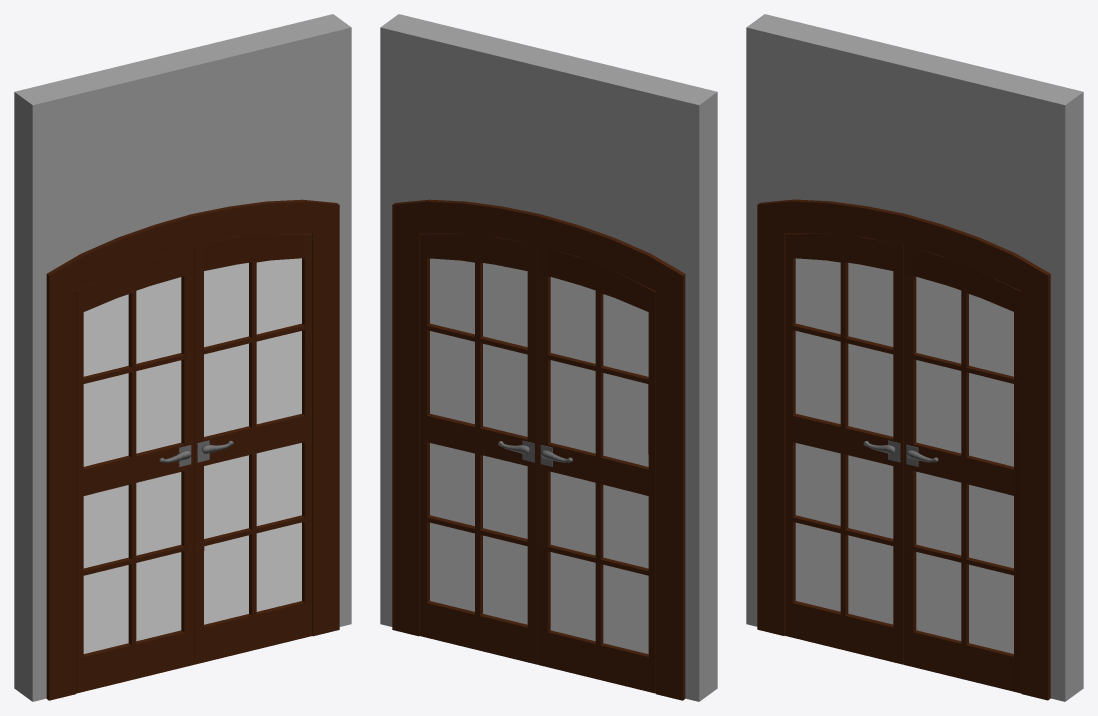
Rendered from wallWithFrenchDoor.fbx.
3 renders of one model, left to right at view 1: azimuth 30°, elevation 25°; view 2: azimuth 150°, elevation 25°; view 3: azimuth 330°, elevation 25°, orthographic.
Visible parts, largest first — view 1: WallwithFrenchDoor, FrenchDoor.002, French Door; view 2: WallwithFrenchDoor, FrenchDoor.002, French Door; view 3: WallwithFrenchDoor, French Door, FrenchDoor.002.
Part boxes in pixels (left/top/right/bottom): WallwithFrenchDoor: left=14, top=14, right=351, bottom=701; FrenchDoor.002: left=194, top=233, right=312, bottom=664; French Door: left=76, top=245, right=193, bottom=693; WallwithFrenchDoor: left=380, top=14, right=717, bottom=701; FrenchDoor.002: left=419, top=233, right=537, bottom=664; French Door: left=538, top=245, right=655, bottom=693; WallwithFrenchDoor: left=746, top=14, right=1083, bottom=701; French Door: left=785, top=233, right=903, bottom=664; FrenchDoor.002: left=903, top=245, right=1021, bottom=693.
Size of the model in its own units: 200 by 31.86 by 358.
